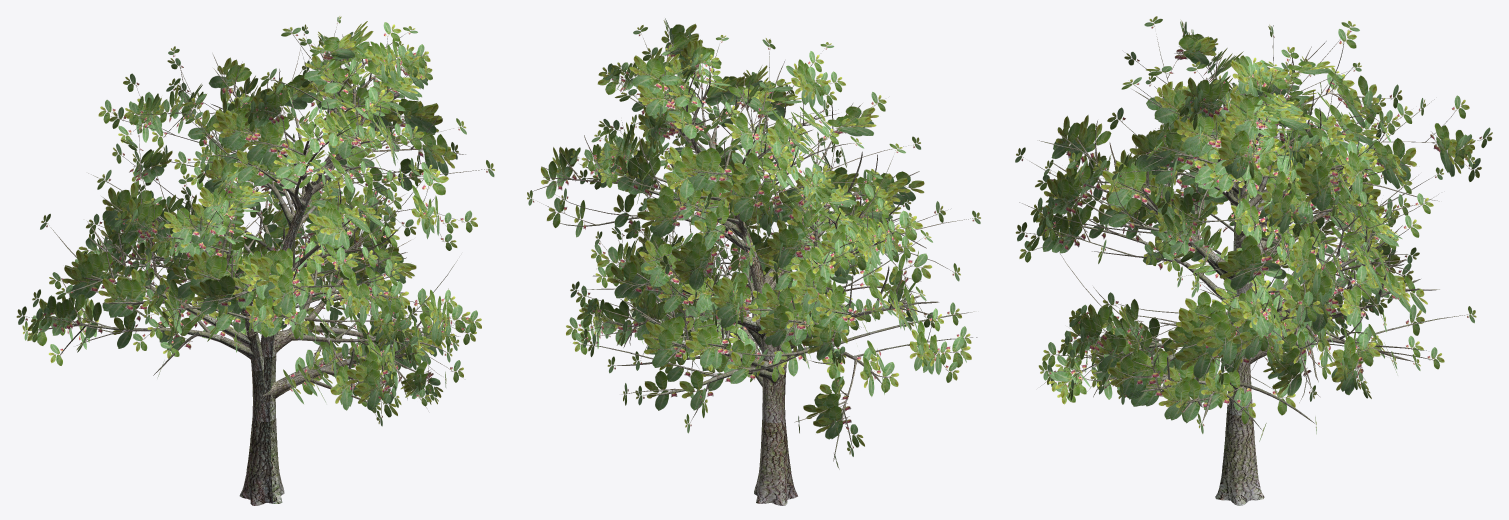
Rendered from annona.glb.
3 views of the same model, side by side, from view 1: azimuth 30°, elevation 25°; view 2: azimuth 150°, elevation 25°; view 3: azimuth 270°, elevation 25° (orthographic). The views are drawn at different scales.
Parts seen in each view (by area): view 1: tree; view 2: tree; view 3: tree.
Part boxes in pixels (box(x1,y1,x2,y2)): tree: box(16, 16, 494, 505); tree: box(527, 18, 980, 505); tree: box(1015, 16, 1492, 505).
Bounding box in the file's own units: 3.73 × 3.62 × 3.23.
Materials: 2 (2 with a texture image).
